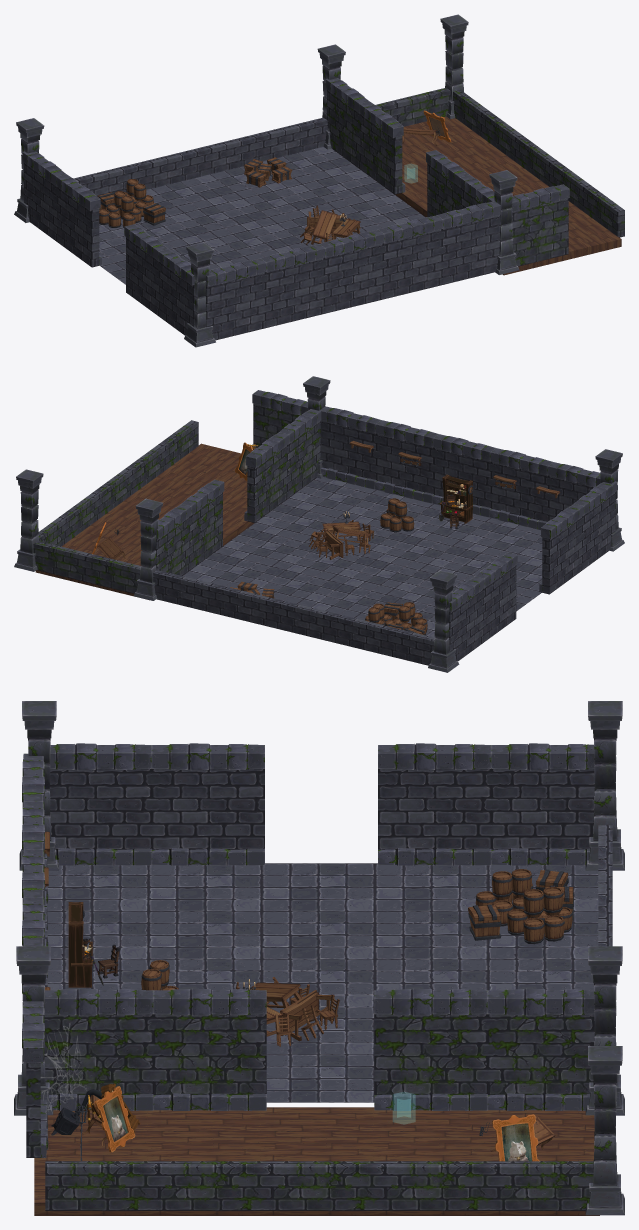
The model's file is StorageRoom.gltf.
The picture shows the model from 3 angles, top to bottom: view 1: azimuth 30°, elevation 25°; view 2: azimuth 150°, elevation 25°; view 3: azimuth 270°, elevation 25°; orthographic projection. The views are drawn at different scales.
Visible parts, largest first — view 1: StorageRoom; view 2: StorageRoom; view 3: StorageRoom.
Part boxes in pixels (x1,y1,x2,y2): StorageRoom: [14, 14, 624, 347]; StorageRoom: [14, 376, 624, 672]; StorageRoom: [14, 701, 624, 1215].
Size of the model in its own units: 30.24 by 6.48 by 21.6.
Materials: 22 (21 with a texture image).
